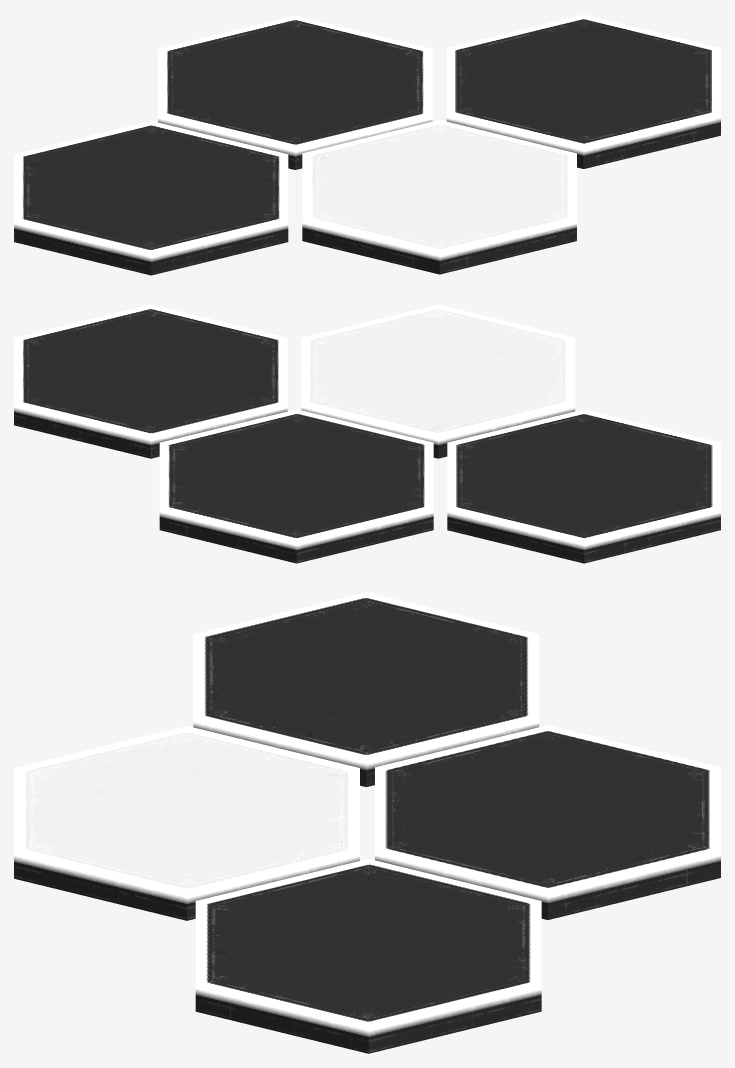
Rendered from ARC1110070.fbx.
3 renders of one model, top to bottom at view 1: azimuth 30°, elevation 25°; view 2: azimuth 150°, elevation 25°; view 3: azimuth 270°, elevation 25°, orthographic. The views are drawn at different scales.
Visible parts, largest first — view 1: smARC1110070; view 2: smARC1110070; view 3: smARC1110070.
Boxes of the visible parts, x1,y1,x2,y2 form: smARC1110070: (14,14,720,275); smARC1110070: (14,304,720,563); smARC1110070: (14,592,720,1053).
Size of the model in its own units: 517 by 14.52 by 355.
1 material, 1 textured.
